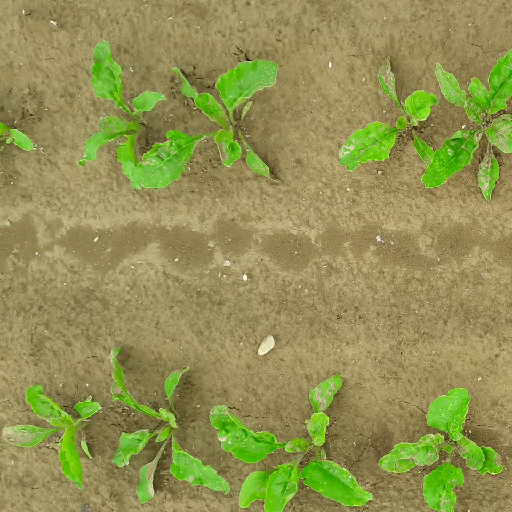sugarbeet: (209, 372, 372, 510), (128, 51, 282, 190), (108, 342, 232, 504), (377, 382, 504, 510), (69, 39, 167, 190), (420, 50, 512, 201), (336, 50, 441, 173), (3, 382, 100, 495), (1, 121, 40, 155)
